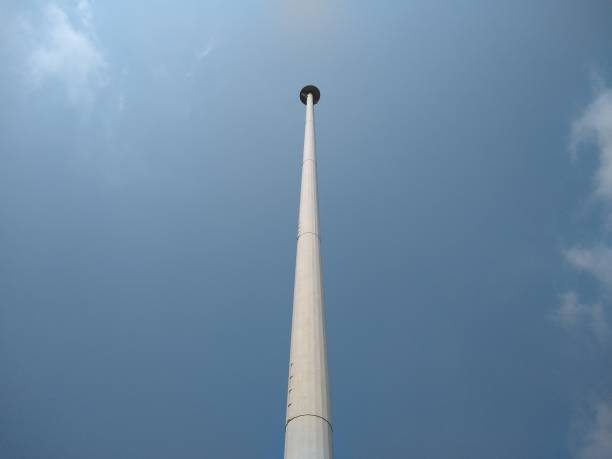light_pole: (282, 95, 335, 459)
